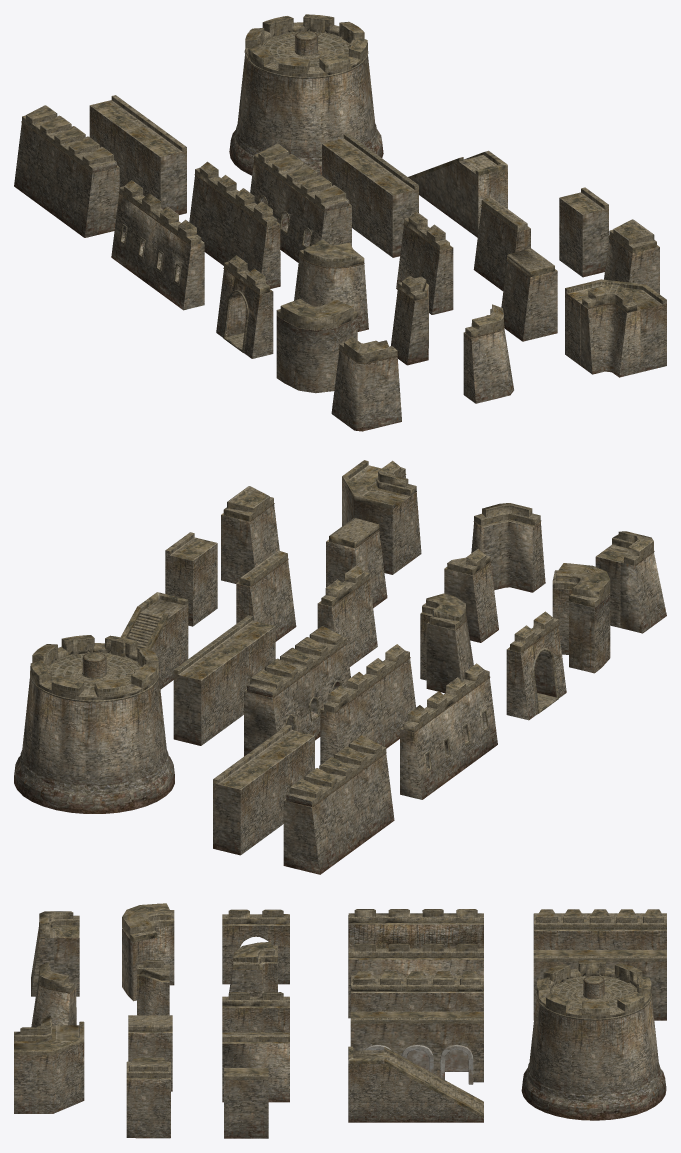
Rendered from modular_fort_01.glb.
The picture shows the model from 3 angles, top to bottom: view 1: azimuth 30°, elevation 25°; view 2: azimuth 150°, elevation 25°; view 3: azimuth 270°, elevation 25°; orthographic projection. The views are drawn at different scales.
Parts seen in each view (by area): view 1: modular_fort_01_wall_thick_corner_02; view 2: modular_fort_01_wall_thick_corner_02; view 3: modular_fort_01_wall_thick_corner_02, modular_fort_01_wall_walkway_straight_01.
Boxes of the visible parts, x1=… form: modular_fort_01_wall_thick_corner_02: x1=14, y1=14, x2=666, y2=431; modular_fort_01_wall_thick_corner_02: x1=14, y1=460, x2=666, y2=874; modular_fort_01_wall_thick_corner_02: x1=14, y1=903, x2=666, y2=1138; modular_fort_01_wall_walkway_straight_01: x1=365, y1=1045, x2=473, y2=1084.
Bounding box in the file's own units: 42.67 × 13.67 × 71.38.
Materials: 3 (3 with a texture image).
